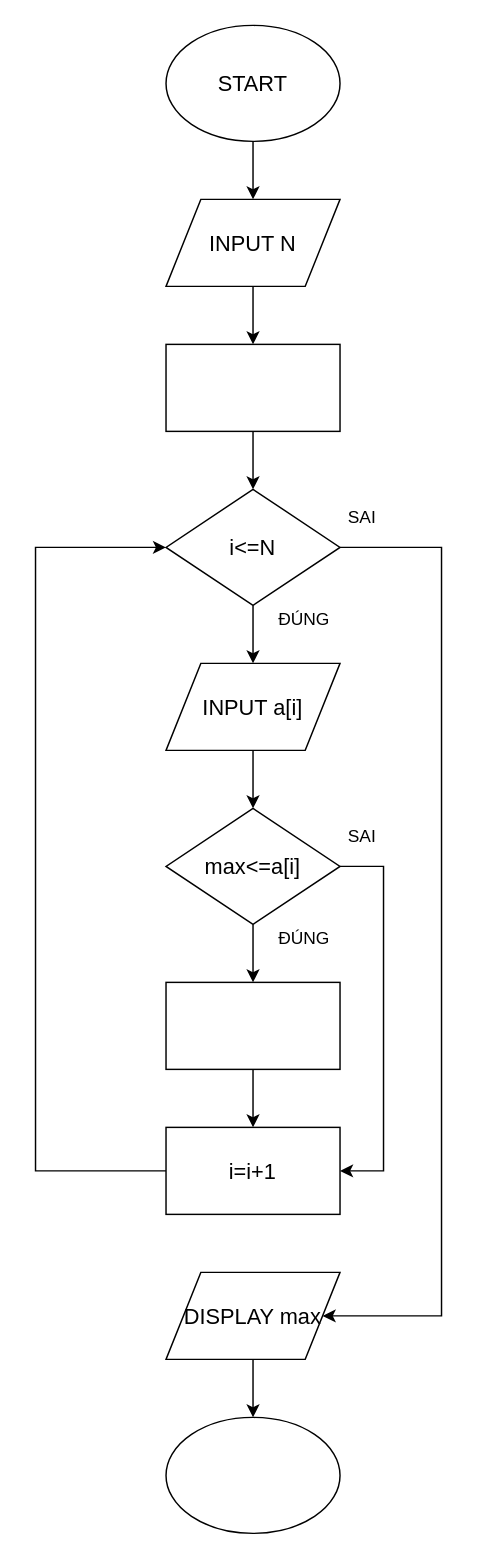
The diagram is 479 pixels wide and 1559 high, and some of its shapes have lost their labels. Here are the shapes that lost their labels. From the top down, the centre of each, then its label:
(x=252, y=387): i=1 max=0
(x=252, y=1025): max=a[i]
(x=252, y=1474): STOP
